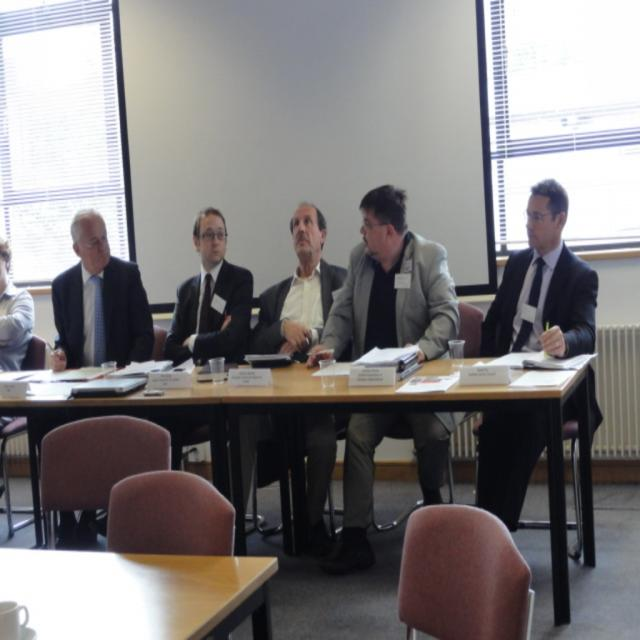chair: (397, 504, 534, 640), (38, 415, 172, 547), (106, 470, 236, 555), (20, 334, 50, 371)
desk: (46, 328, 625, 596)
person: (316, 187, 459, 568), (468, 180, 600, 566), (245, 202, 346, 558), (163, 211, 254, 544), (51, 208, 155, 369), (0, 236, 36, 372)
